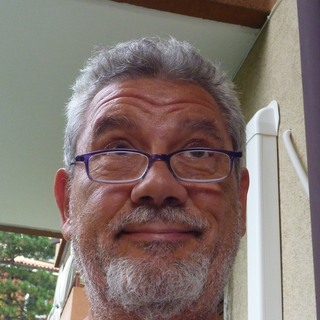eye: (176, 141, 221, 164), (95, 140, 139, 163)
